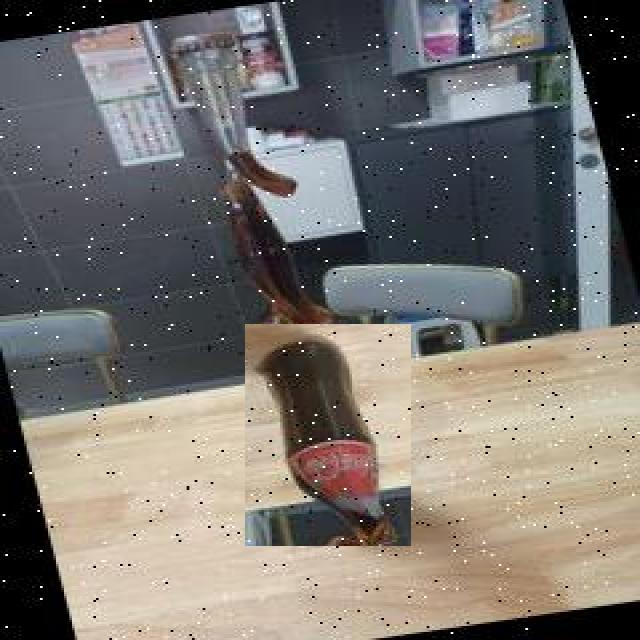coca-cola: (245, 324, 411, 546)
